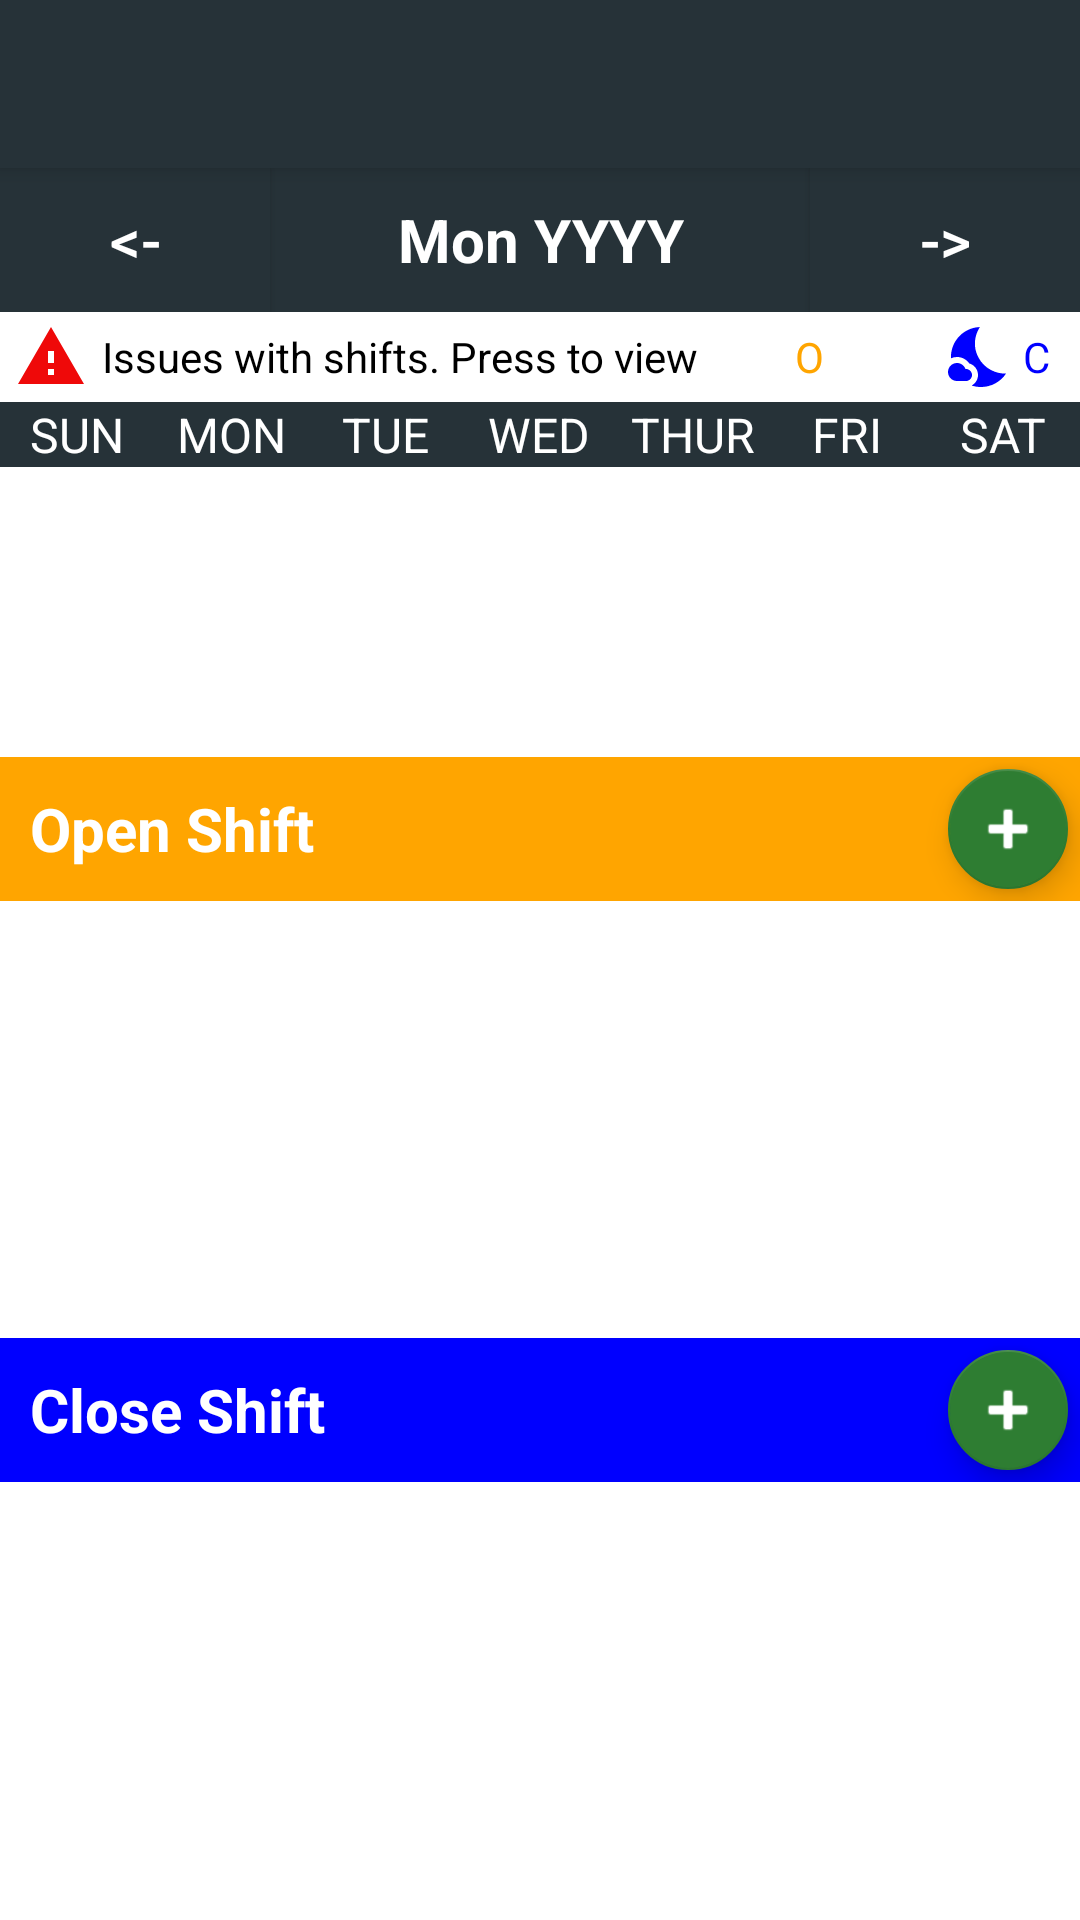

Named icons in this screenshot (1080px×1920px) and their bounding boxes, bbox=[x1, y1, x2, y2]:
add: bbox=[948, 769, 1071, 894], bbox=[948, 1350, 1071, 1482]
